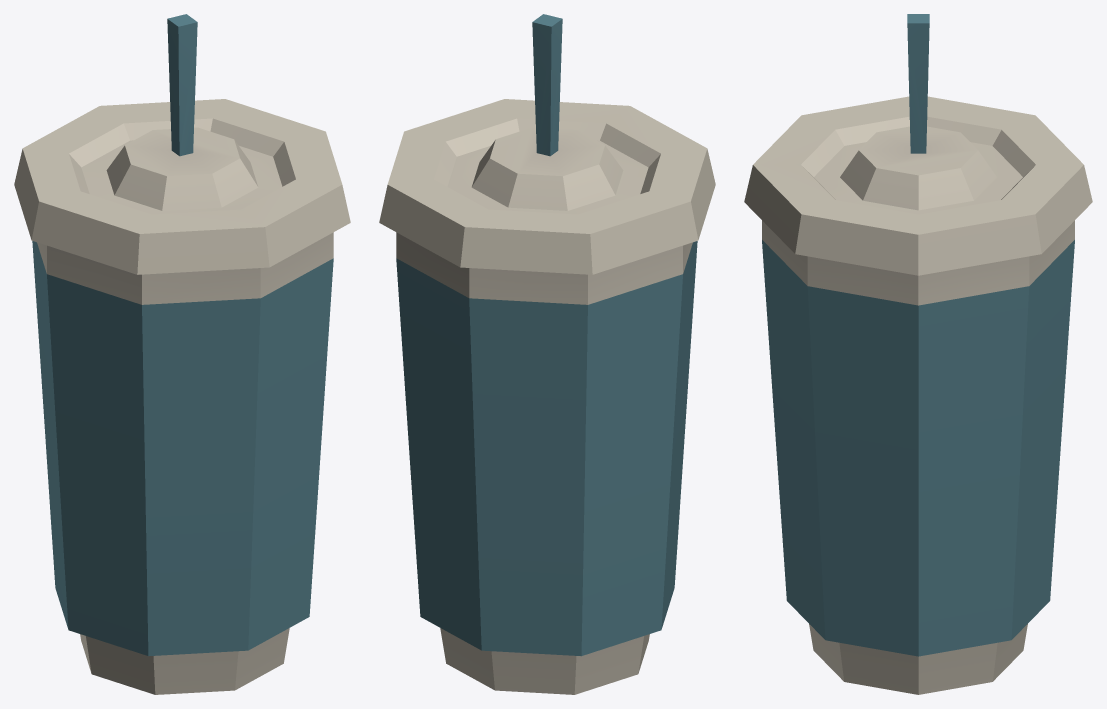
Rendered from drink.glb.
The picture shows the model from 3 angles, left to right: view 1: azimuth 30°, elevation 25°; view 2: azimuth 150°, elevation 25°; view 3: azimuth 270°, elevation 25°; orthographic projection.
Visible parts, largest first — view 1: drink; view 2: drink; view 3: drink.
Part boxes in pixels (x1,y1,x2,y2): drink: (14, 14, 350, 694); drink: (379, 14, 715, 694); drink: (744, 14, 1092, 694).
Size of the model in its own units: 0.14 by 0.28 by 0.14.
